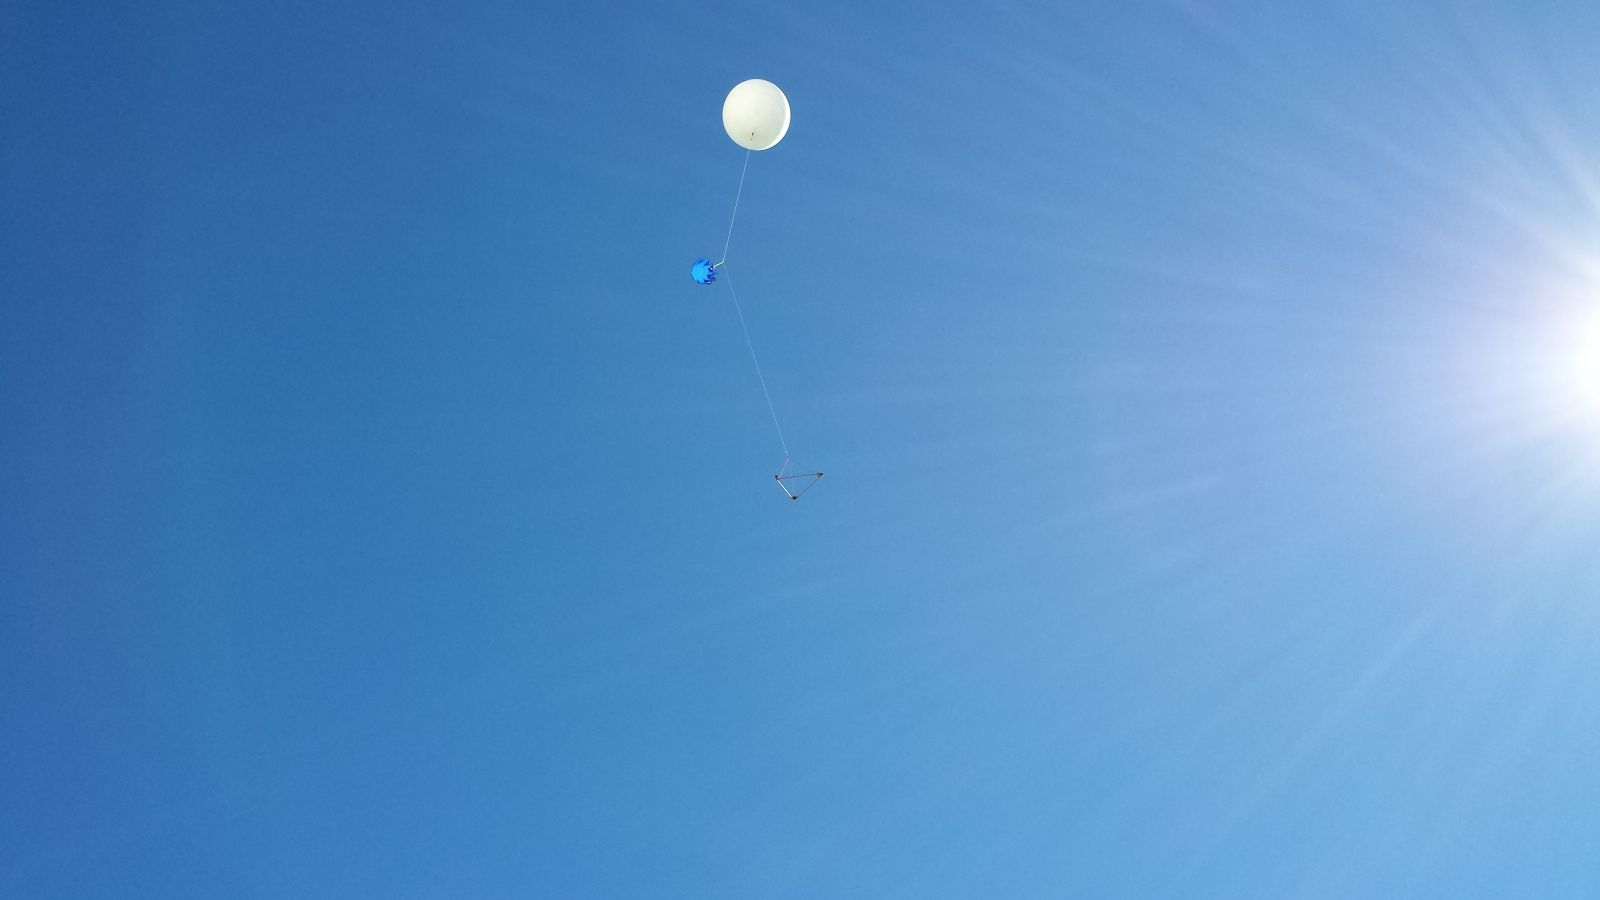Balloon: (721, 77, 790, 149)
